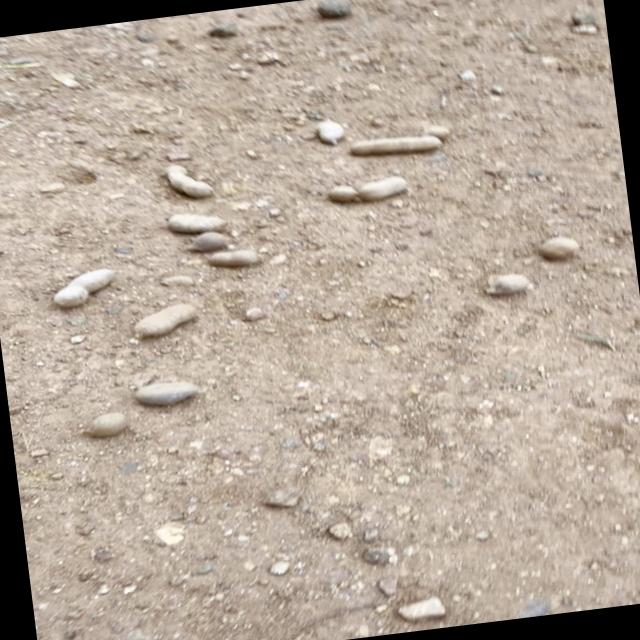tamarind: (343, 127, 454, 163), (130, 296, 203, 340), (195, 241, 289, 274), (120, 372, 201, 408), (54, 263, 118, 306), (156, 155, 217, 199), (86, 408, 157, 443), (153, 209, 230, 237), (329, 177, 410, 203), (522, 230, 582, 262), (486, 266, 528, 296), (179, 232, 230, 250)
